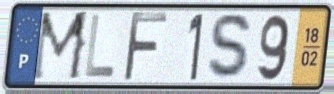1: (187, 12, 205, 83)
9: (256, 12, 291, 83)
F: (121, 9, 170, 84)
L: (82, 13, 117, 80)
M: (30, 9, 92, 84)
S: (205, 11, 255, 83)
